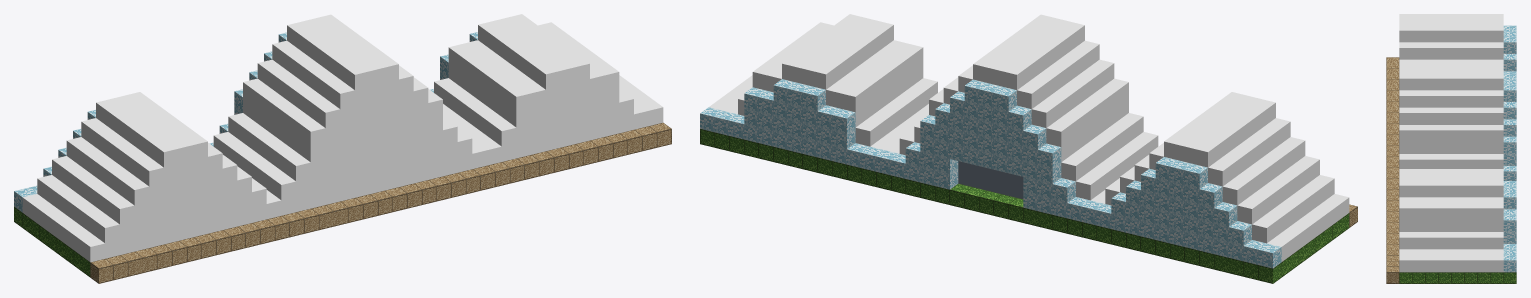
Rendered from zentrum-paul-klee.glb.
3 renders of one model, left to right at view 1: azimuth 30°, elevation 25°; view 2: azimuth 150°, elevation 25°; view 3: azimuth 270°, elevation 25°, orthographic. The views are drawn at different scales.
Visible parts, largest first — view 1: zentrum-paul-klee; view 2: zentrum-paul-klee; view 3: zentrum-paul-klee.
Boxes of the visible parts, x1,y1,x2,y2 form: zentrum-paul-klee: (14,14,671,283); zentrum-paul-klee: (700,14,1357,283); zentrum-paul-klee: (1386,14,1516,283).
Size of the model in its own units: 39 by 9 by 10.
1 material, 1 textured.
